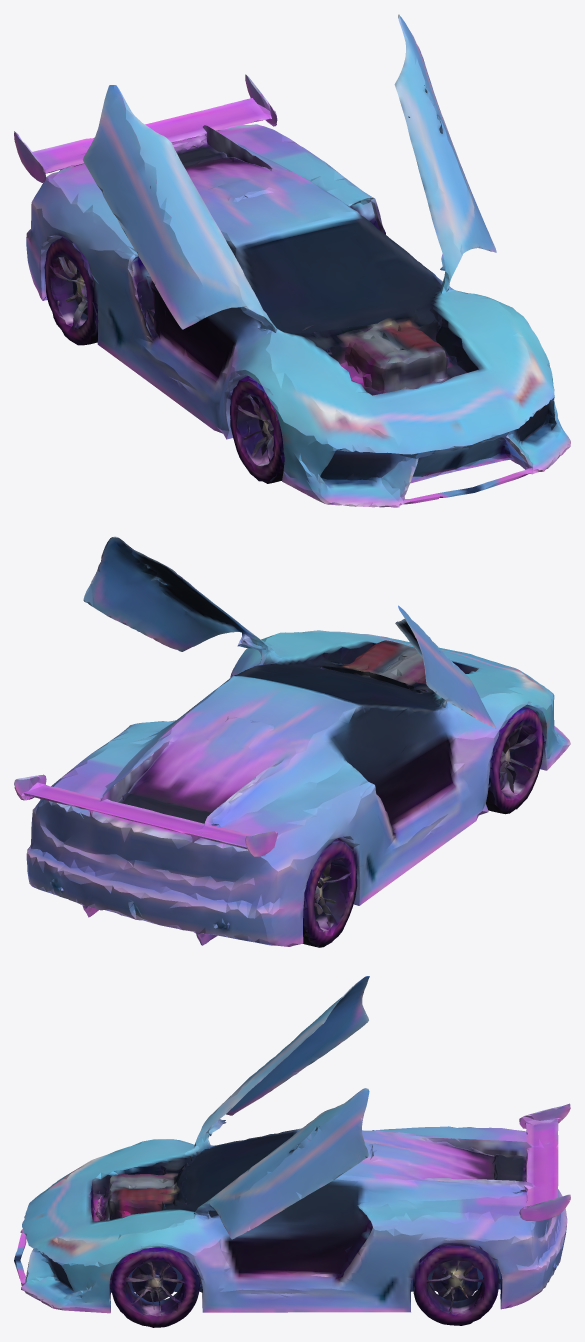
Rendered from gd-hyper.glb.
3 renders of one model, top to bottom at view 1: azimuth 30°, elevation 25°; view 2: azimuth 150°, elevation 25°; view 3: azimuth 270°, elevation 25°, orthographic. The views are drawn at different scales.
Parts seen in each view (by area): view 1: Car_2_Neon_Hyper_Racer; view 2: Car_2_Neon_Hyper_Racer; view 3: Car_2_Neon_Hyper_Racer.
Boxes of the visible parts, bbox=[...] form: Car_2_Neon_Hyper_Racer: bbox=[14, 14, 570, 507]; Car_2_Neon_Hyper_Racer: bbox=[14, 536, 570, 947]; Car_2_Neon_Hyper_Racer: bbox=[14, 976, 570, 1327].
Bounding box in the file's own units: 1.09 × 0.922 × 1.9.
1 material, 1 textured.
